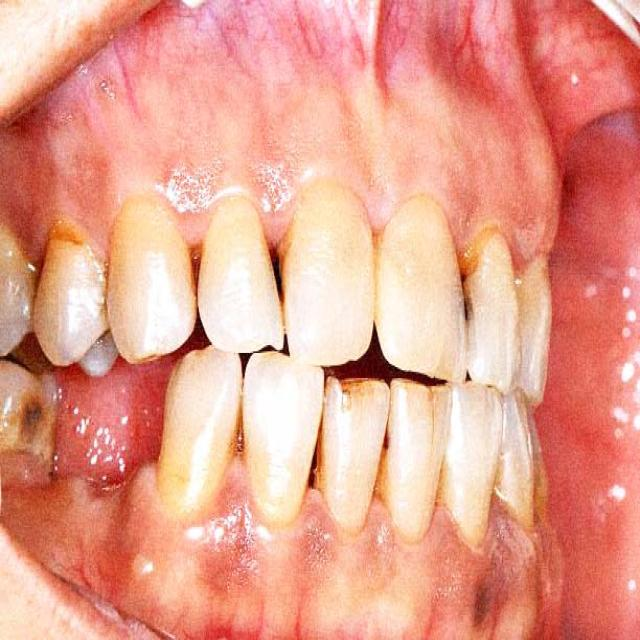caries: (258, 220, 302, 316), (175, 228, 218, 305), (452, 268, 485, 340), (302, 420, 334, 493)
